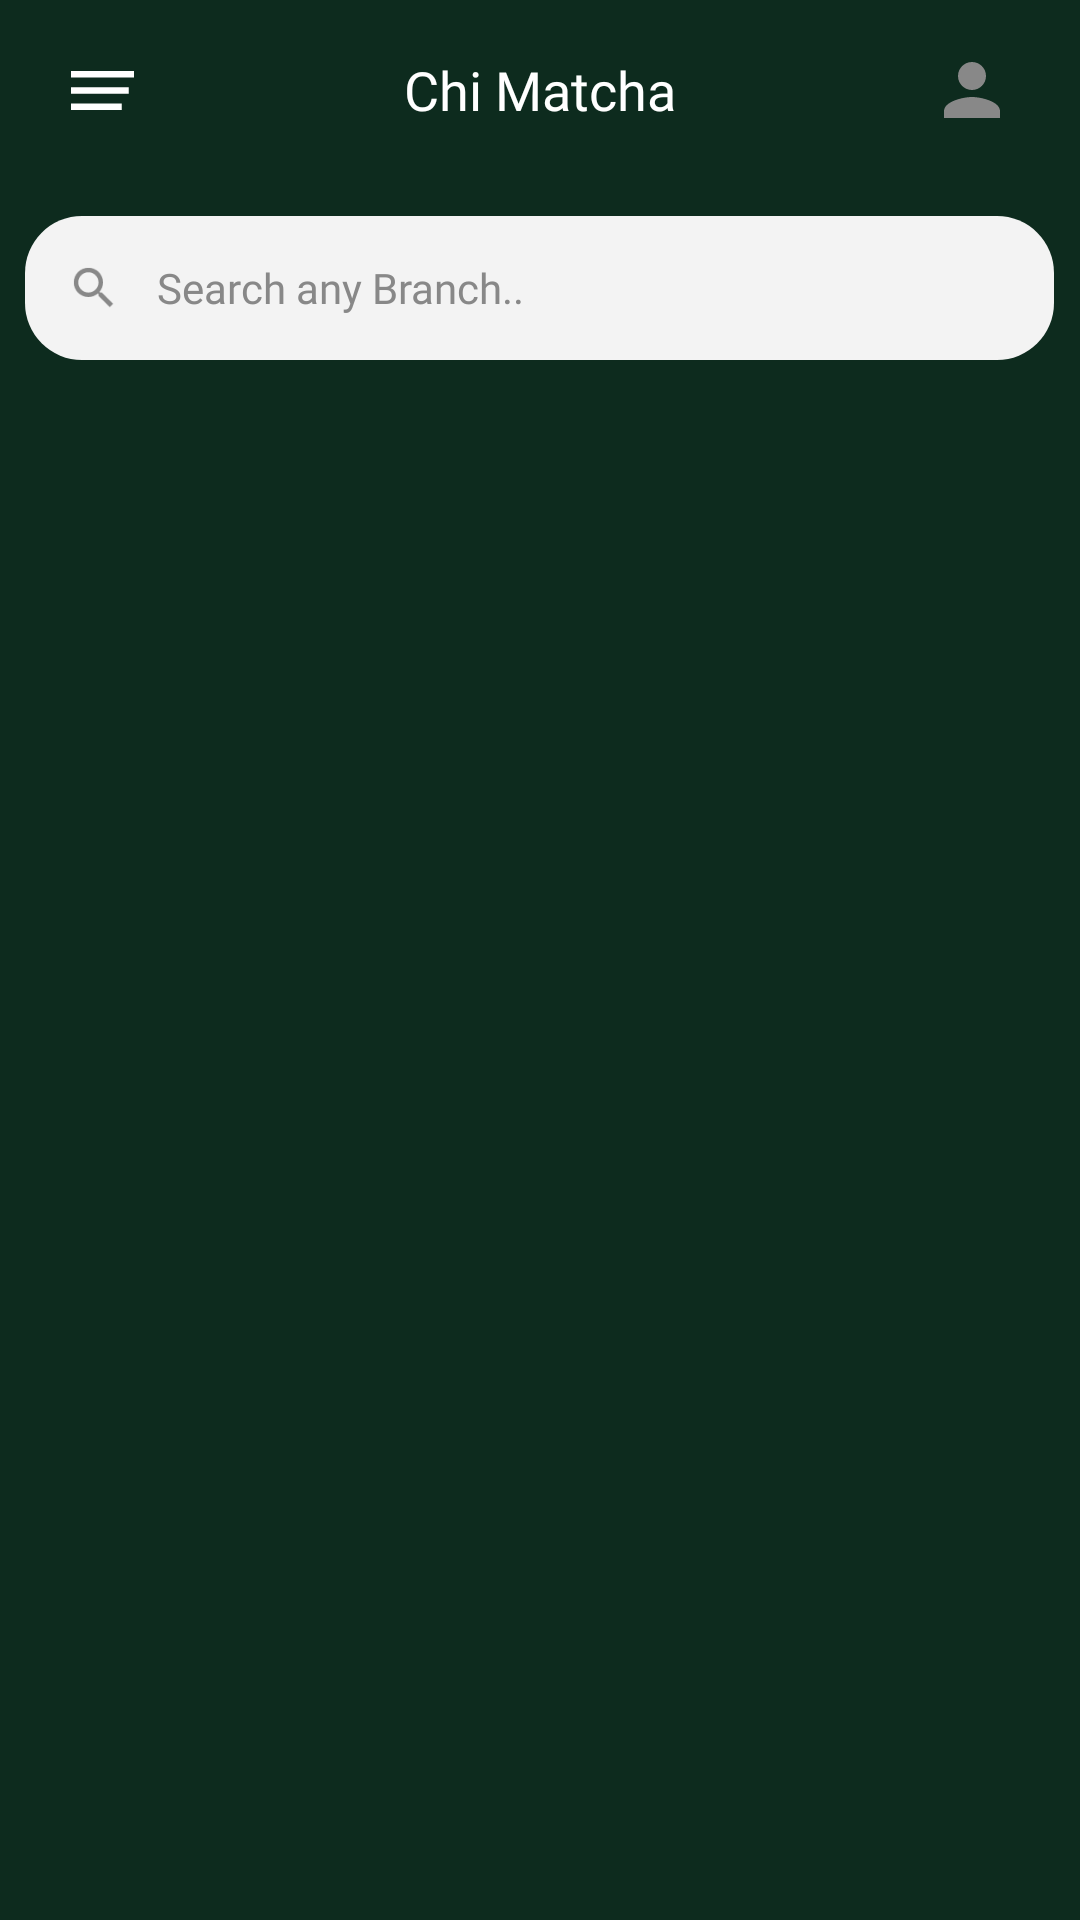

Point at icon controls on the screen. Image size 1080 x 1920, points as (x,y).
hamburger: (102,90)
profile: (972,90)
